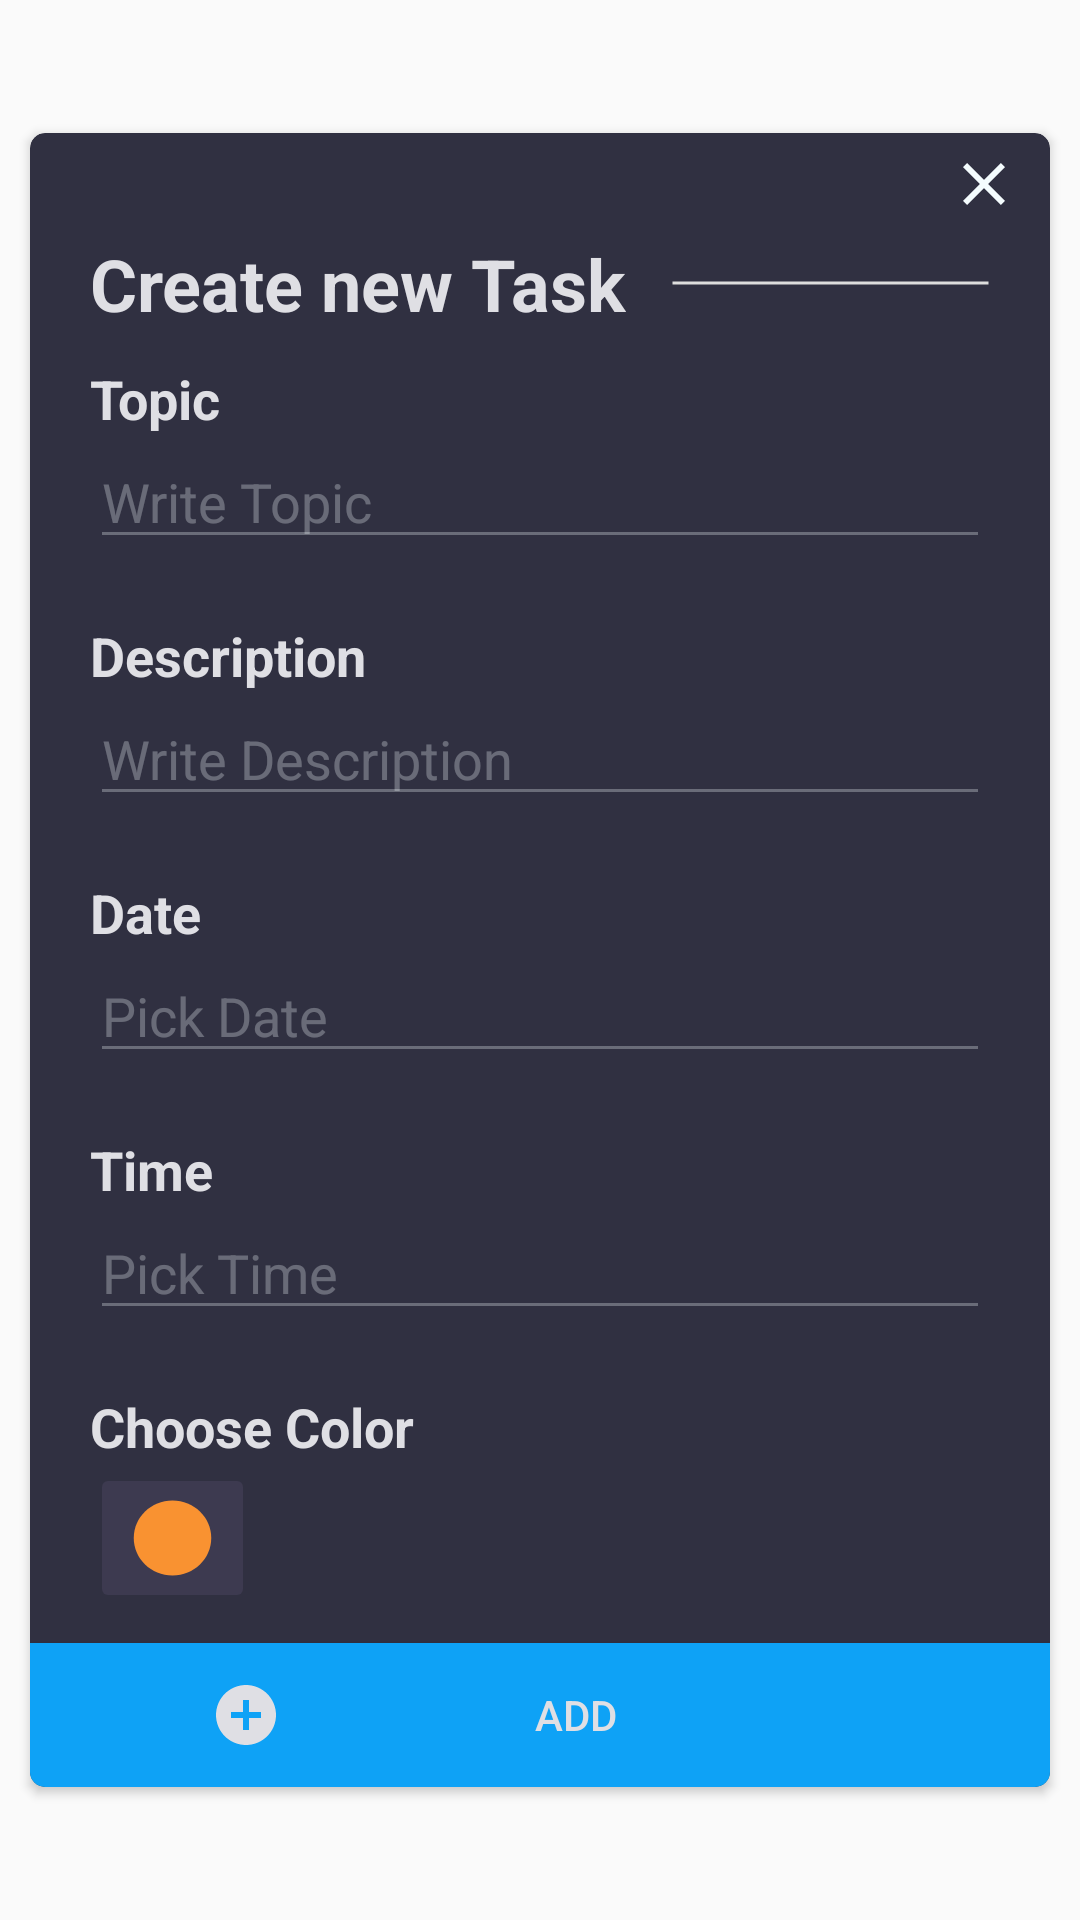

Point at icon controls on the screen. Image size 1080*1920, points as point (x, y).
clear: point (984, 184)
